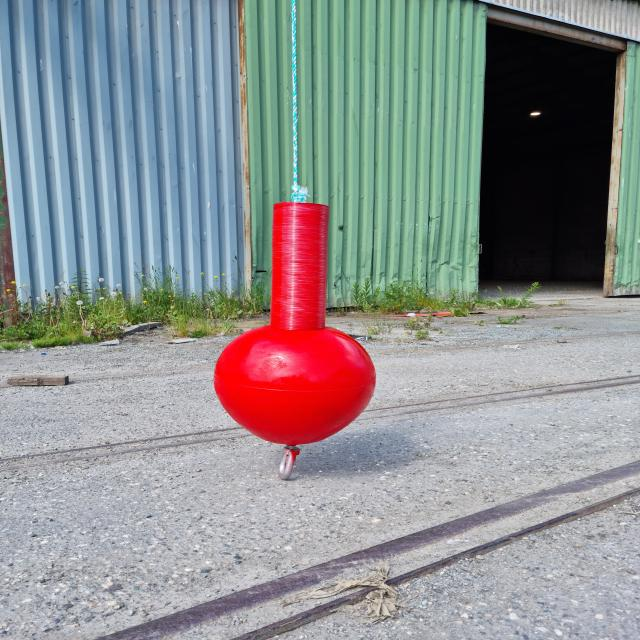red: (214, 206, 376, 447)
